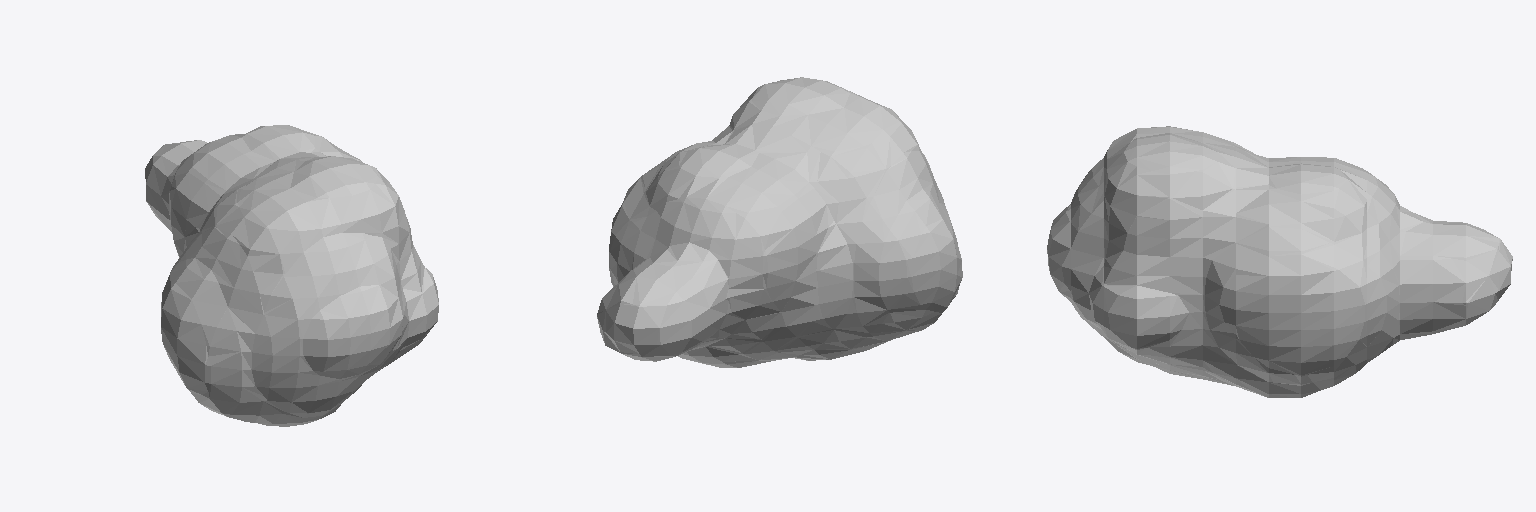
The model's file is 2fqx_aligned_cms.obj.
The picture shows the model from 3 angles: view 1: azimuth 30°, elevation 25°; view 2: azimuth 150°, elevation 25°; view 3: azimuth 270°, elevation 25°; orthographic projection.
Bounding box in the file's own units: 67.02 × 58.96 × 101.